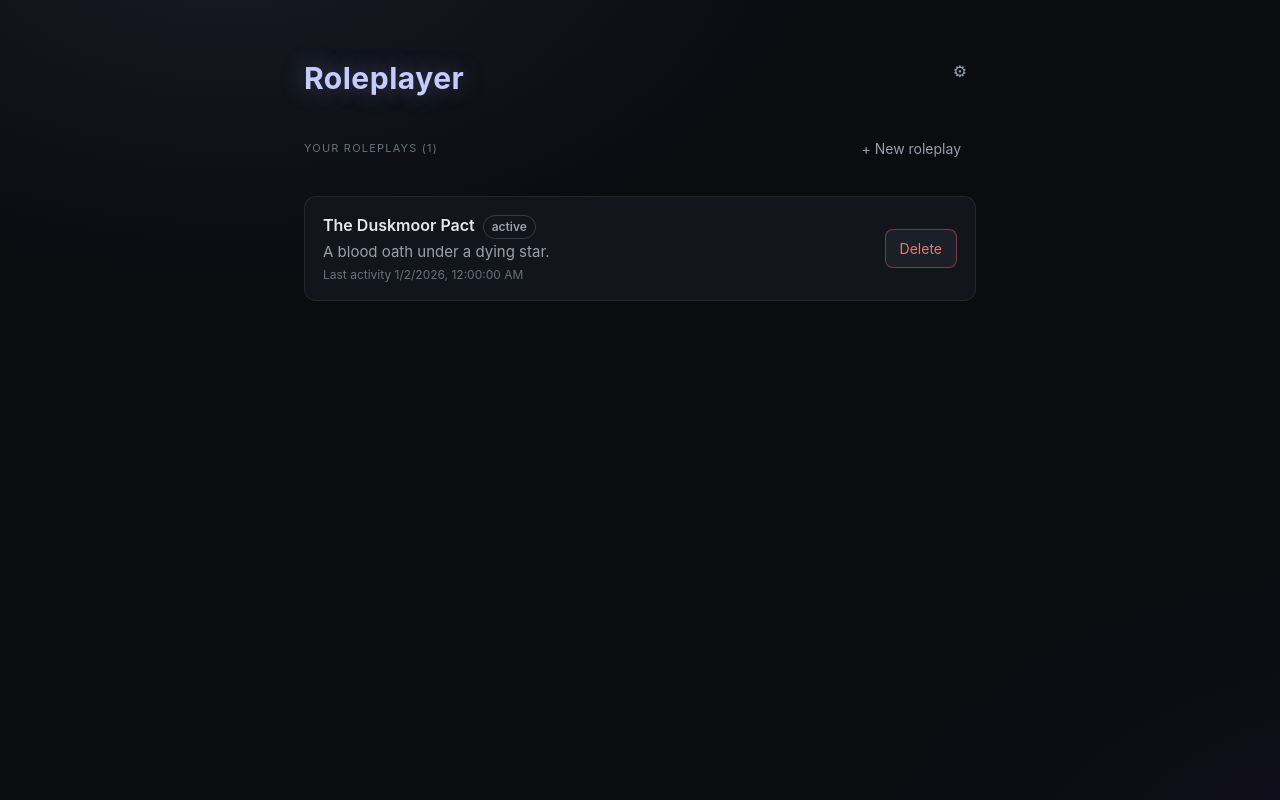
App stage flow › returns from the chat to the lobby via the back button
Click the text "The Duskmoor Pact".
click(429, 227)  # box [323,215,536,239]
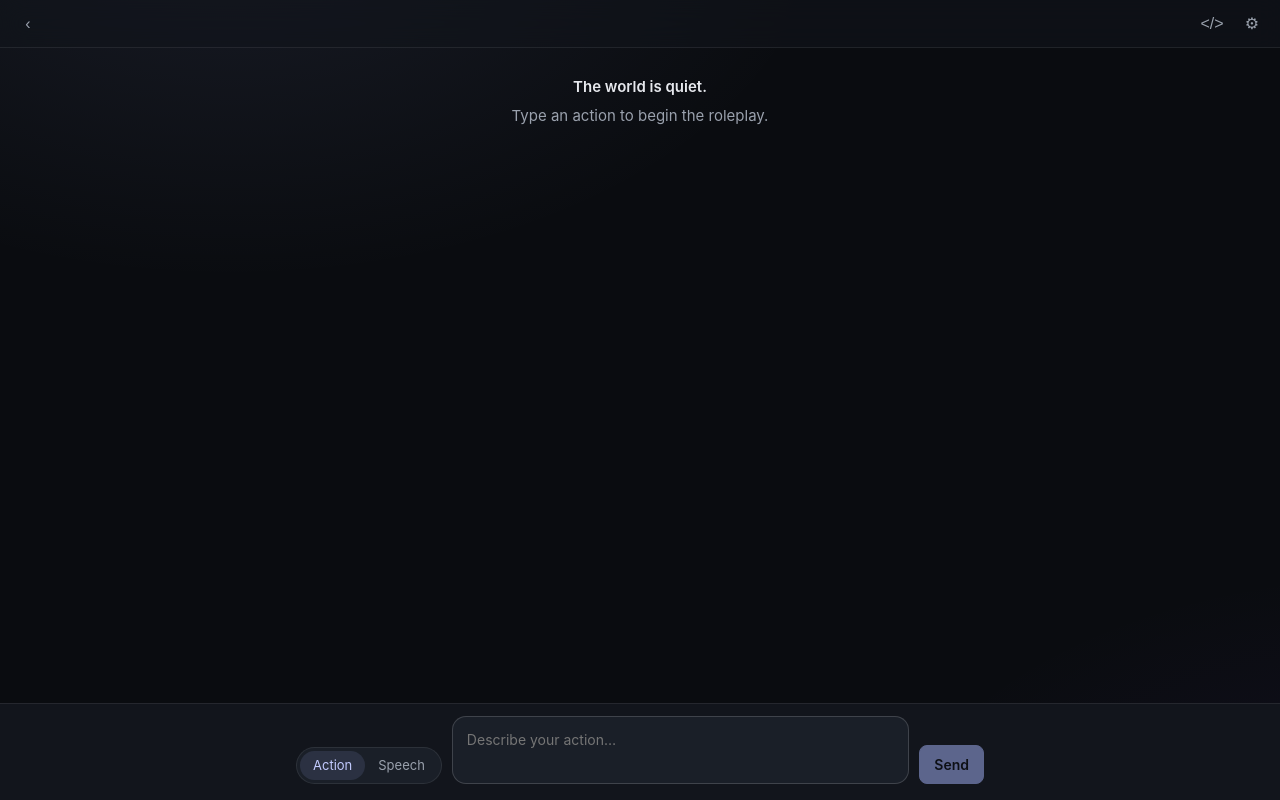
expect the text box with placeholder "Describe your action…" is shown: met, box [452,716,909,784]
# The back chevron is the single step out of a campaign's chat.
Click the button named "Back to campaigns".
click(28, 24)  # box [12,8,44,40]
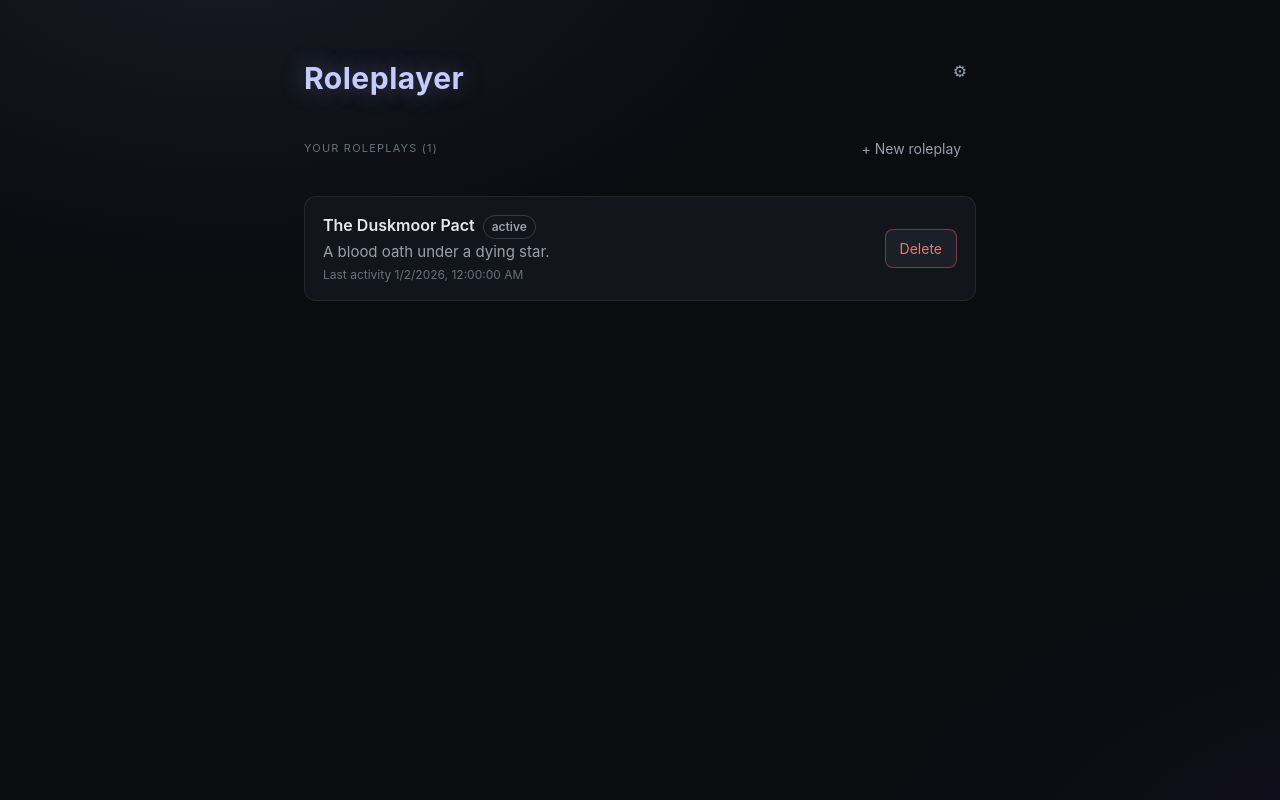
expect the heading "Roleplayer" is shown: met, box [304,56,464,101]
expect the text "The Duskmoor Pact" is shown: met, box [323,215,475,235]
